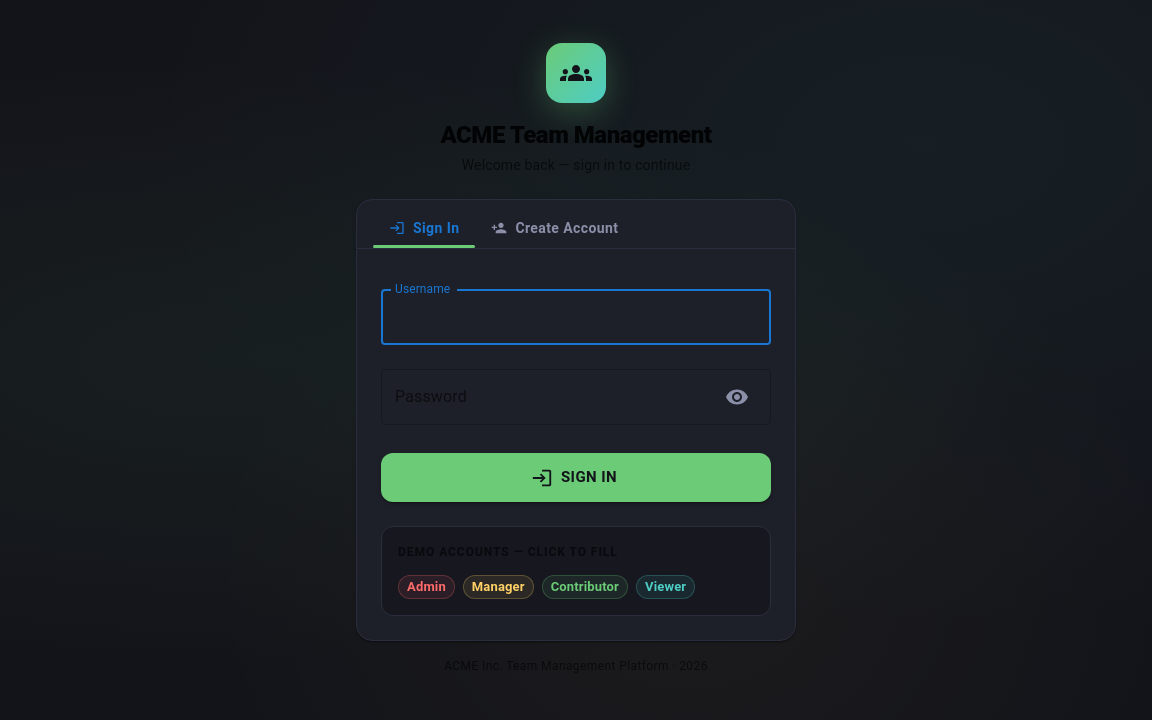
Test: LoginPage › shows validation errors when submitted empty
The width and height of the screenshot is (1152, 720).
Click the button "Sign In": coordinates (576, 478) [381,453,771,502]
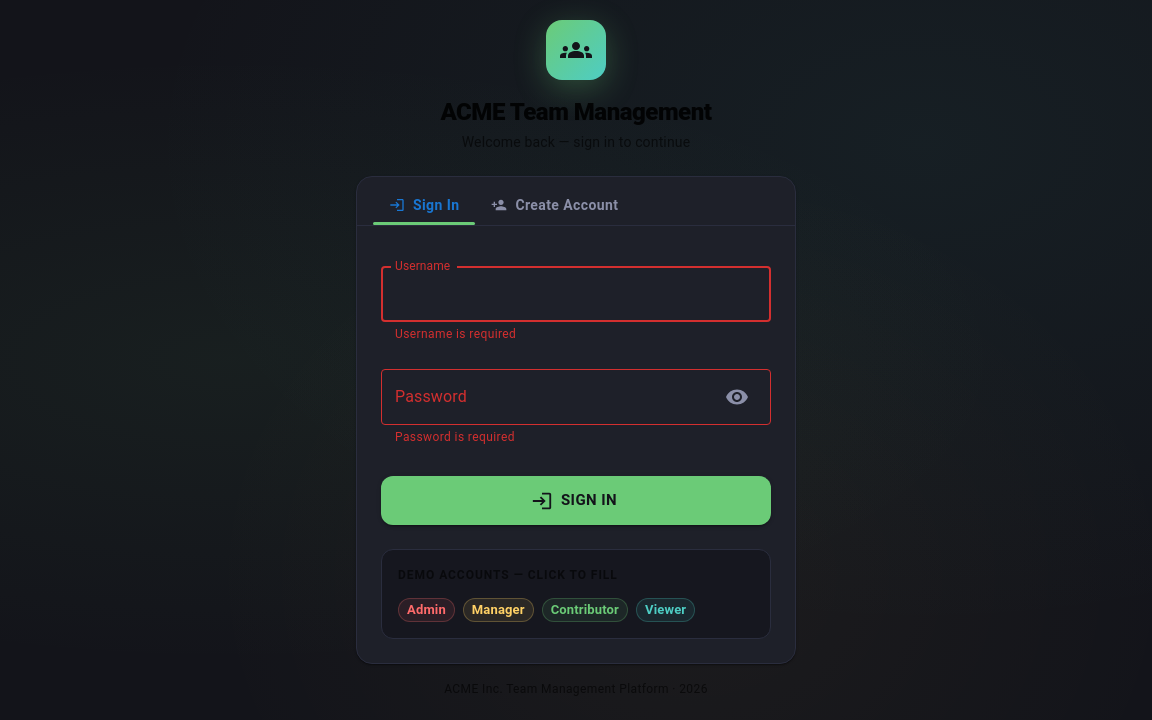
Expected: the text "Username is required" is shown, [395,327,516,341]
